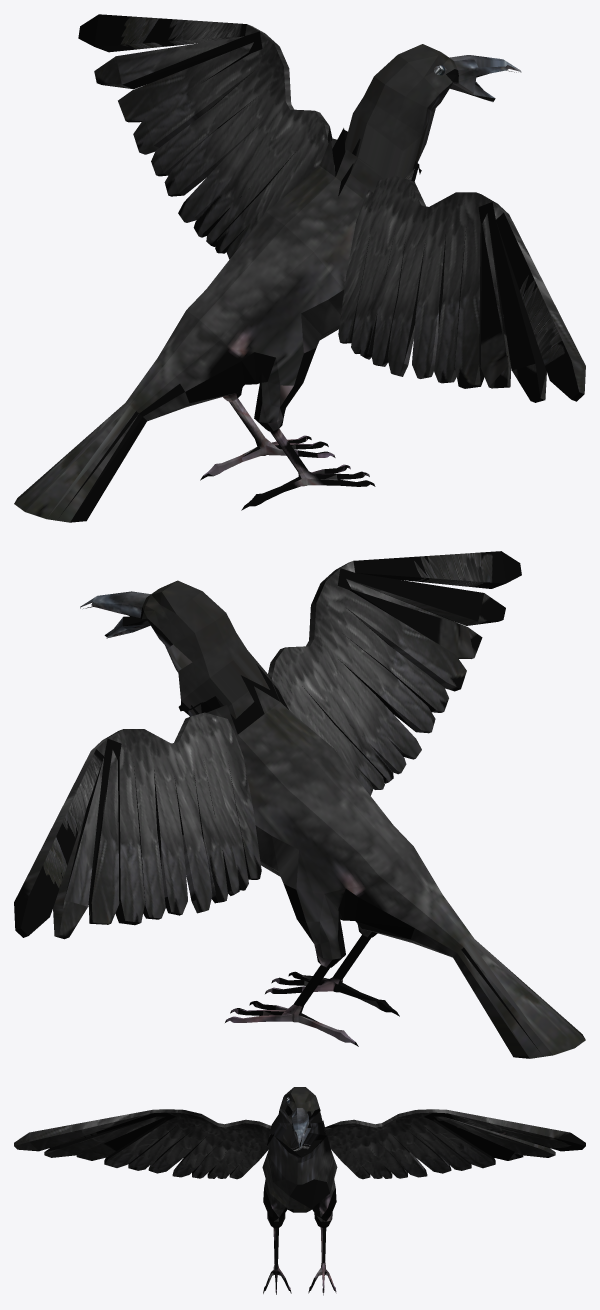
The model's file is CrowBent0_000018.obj.
The picture shows the model from 3 angles, top to bottom: view 1: azimuth 30°, elevation 25°; view 2: azimuth 150°, elevation 25°; view 3: azimuth 270°, elevation 25°; orthographic projection. The views are drawn at different scales.
Visible parts, largest first — view 1: Cylinder.009, Cylinder.003, Cylinder.002, Cylinder.001; view 2: Cylinder.009, Cylinder.002, Cylinder.003, Cylinder.001; view 3: Cylinder.002, Cylinder.003, Cylinder.009, Cylinder.001.
Part boxes in pixels (x1,y1,x2,y2): Cylinder.009: [14, 138, 375, 522]; Cylinder.003: [338, 176, 585, 402]; Cylinder.002: [78, 14, 332, 259]; Cylinder.001: [332, 44, 521, 196]; Cylinder.009: [188, 675, 585, 1058]; Cylinder.002: [14, 712, 261, 939]; Cylinder.003: [268, 551, 521, 795]; Cylinder.001: [80, 580, 288, 734]; Cylinder.002: [325, 1109, 585, 1179]; Cylinder.003: [14, 1109, 271, 1179]; Cylinder.009: [262, 1129, 337, 1295]; Cylinder.001: [267, 1087, 326, 1157].
Bounding box in the file's own units: 5.41 × 4.07 × 9.33.
Materials: 4 (4 with a texture image).
